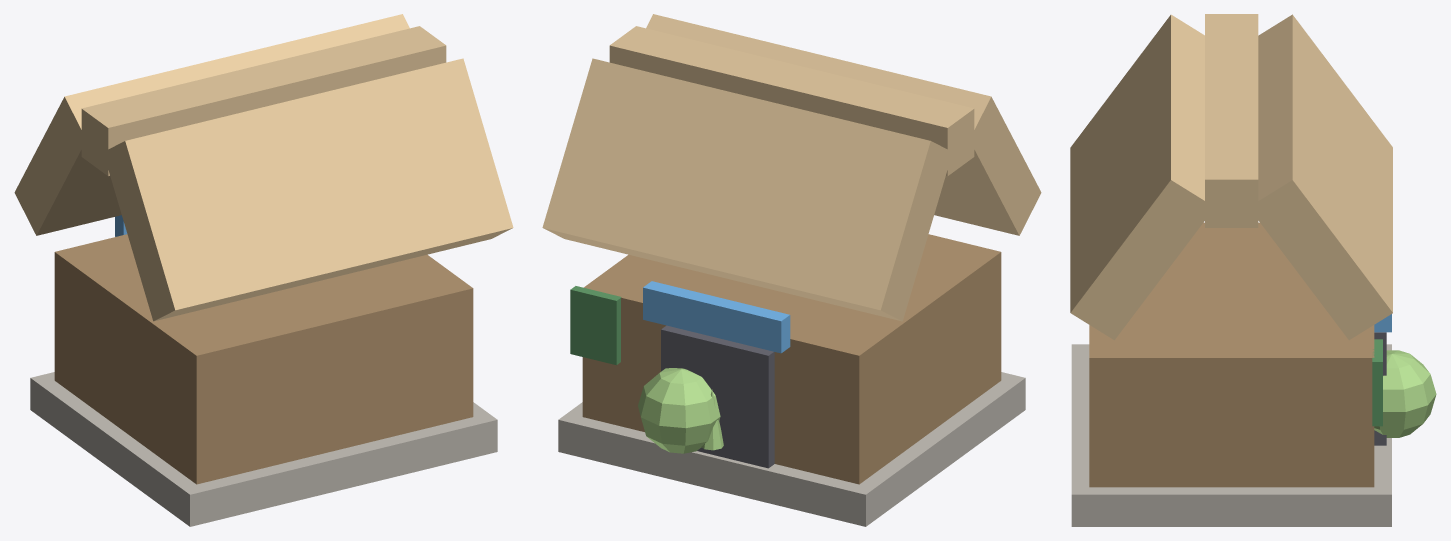
File: goblin_hut.glb
3 renders of one model, left to right at view 1: azimuth 30°, elevation 25°; view 2: azimuth 150°, elevation 25°; view 3: azimuth 270°, elevation 25°, orthographic.
Visible parts, largest first — view 1: goblin_hut; view 2: goblin_hut; view 3: goblin_hut.
Boxes of the visible parts, box(x1,y1,x2,y2) form: goblin_hut: box(14, 14, 513, 526); goblin_hut: box(542, 14, 1041, 526); goblin_hut: box(1070, 14, 1436, 526).
Size of the model in its own units: 2.2 by 2.2 by 2.06.
